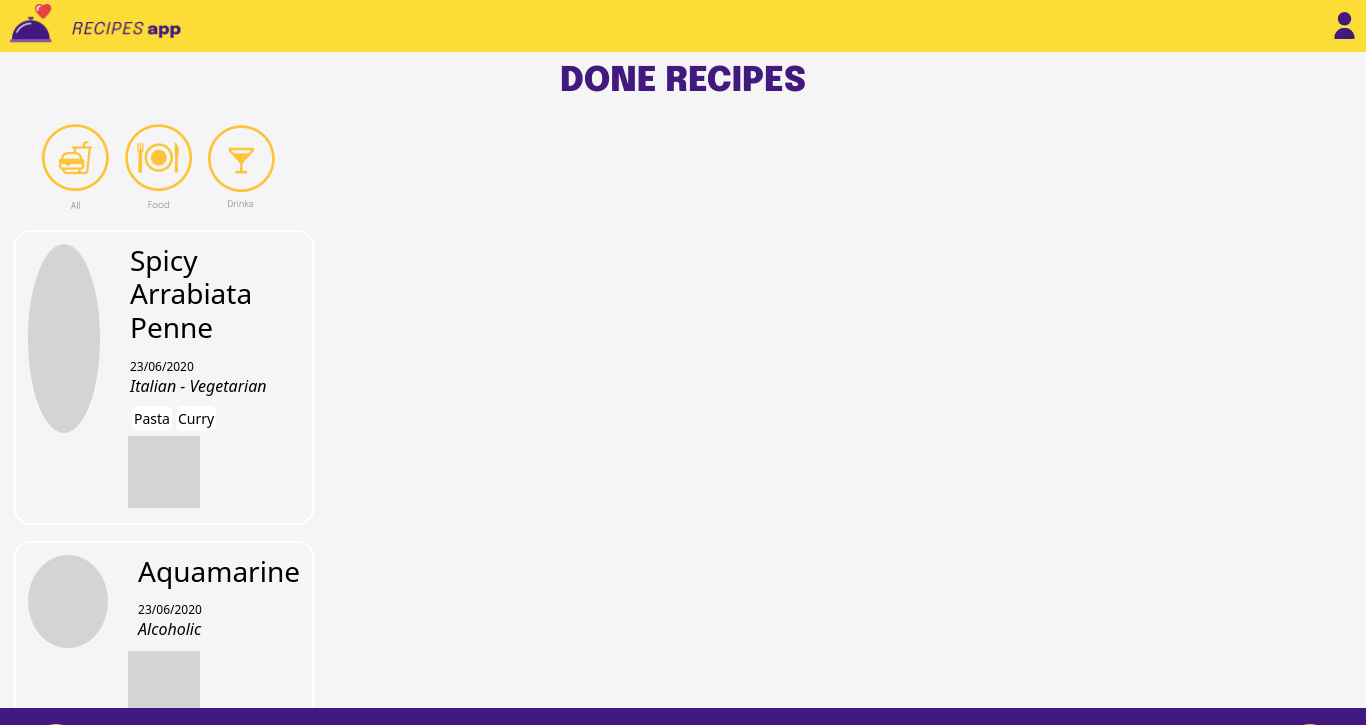
Test: Testa os botões de filtragem › Testa se ao clicar no botão Meals aparece somente as receitas do tipo Meal
Expected: the picture with test id "filter-by-meal-btn" is shown, [125,124,192,210]
Click the button with test id "filter-by-meal-btn" at (158, 167), box [119,123,198,212]
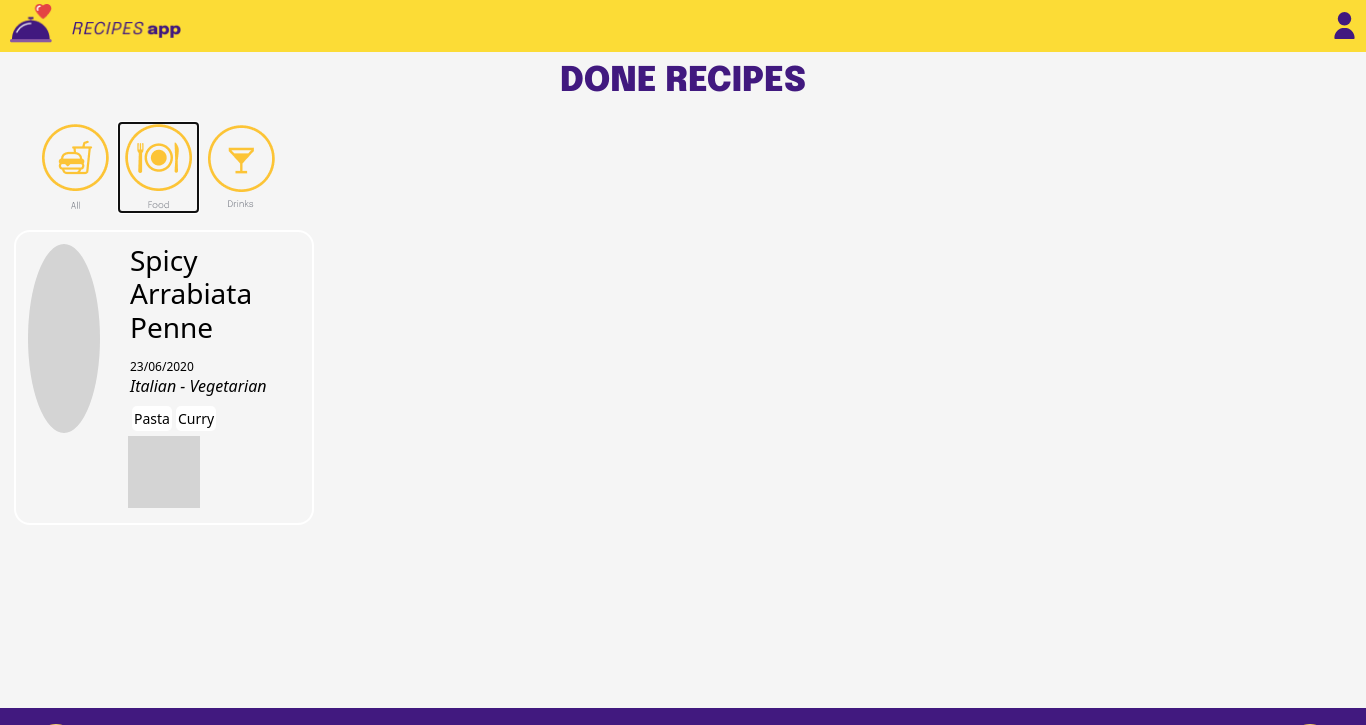
Expected: the heading with test id "1-horizontal-top-text" is gone
